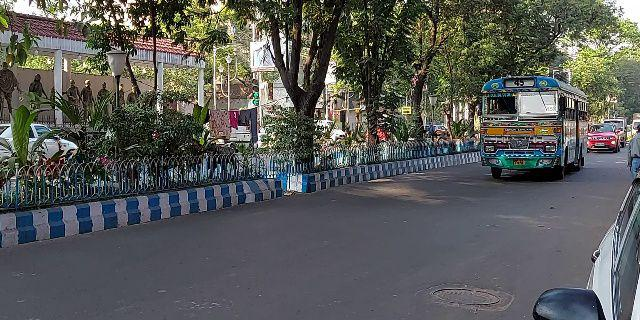Bus: (476, 74, 590, 180)
Car: (587, 121, 623, 154)
